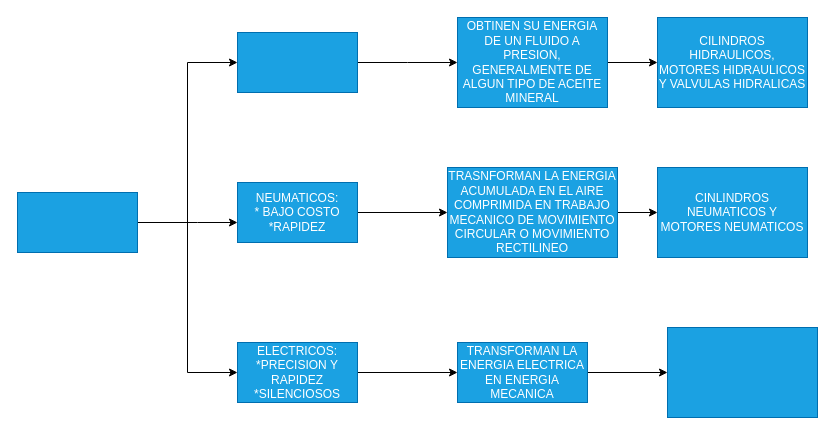
The diagram is 835 pixels wide and 435 high, and some of its shapes have lost their labels. Here are the shapes that lost their labels. From the top down, the centre of each, then its label:
At [297,62]: "HIDRAULICOS: *RAPIDOS *ALTA CAPACIDAD DE CARGA".
At [77,222]: "ACTUADORES EN ROBOTICA".
At [742,372]: "MOTORES DE CORRIENTE CONTINUA, MOTORES DE CORRIENTE ALTERNA Y MOTORES DE PASO".
